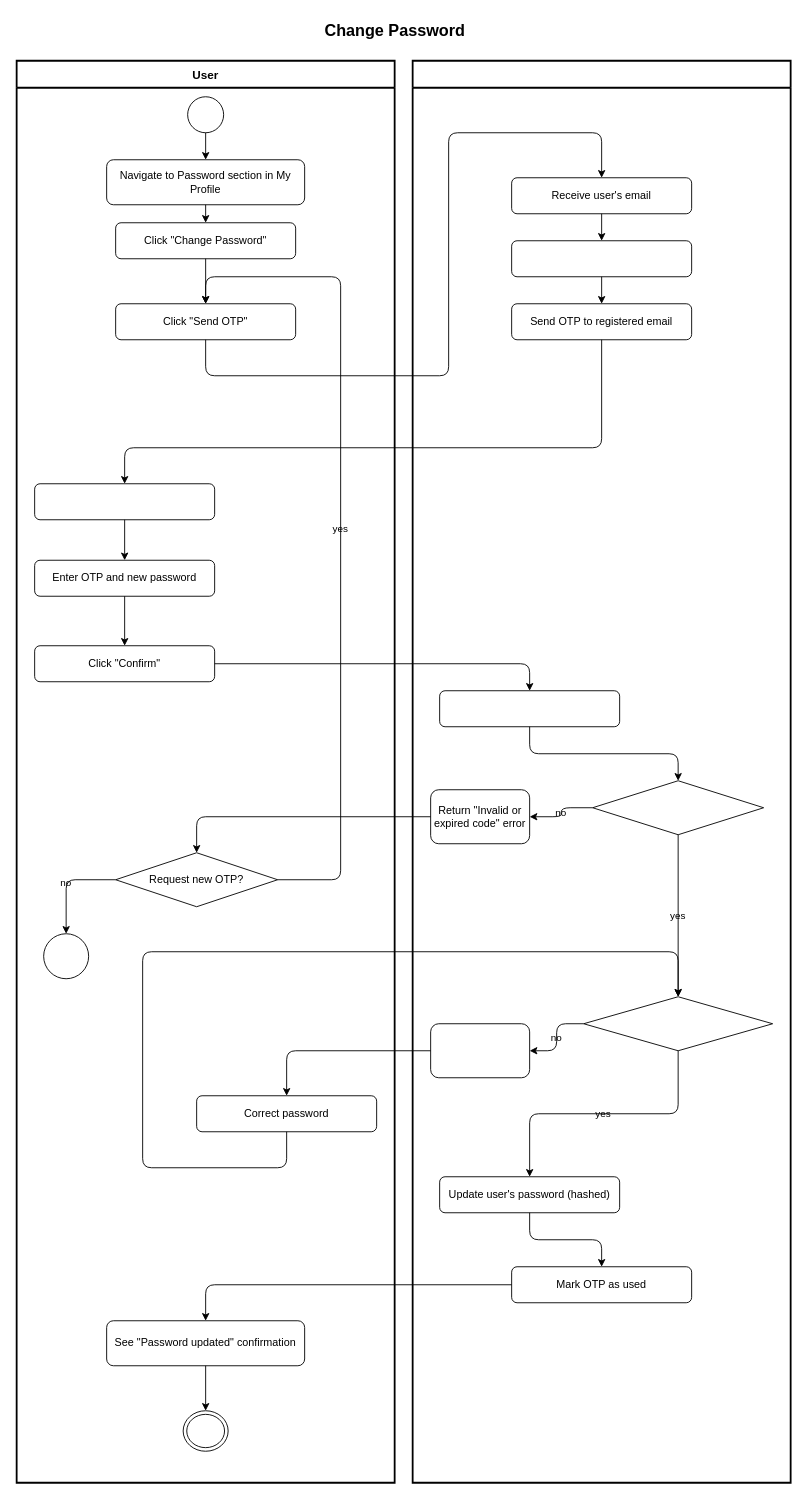
The diagram is 806 pixels wide and 1499 high, and some of its shapes have lost their labels. The shapes that lost their labels are listed below. From the top down, each one's box as (x1, y1, x2, y2) in pixels, then its label:
(511, 240, 692, 277): Generate 6-digit OTP (valid 10 min)
(34, 483, 215, 520): Receive OTP email
(439, 690, 620, 727): Look up OTP record
(411, 59, 791, 1483): System
(592, 780, 764, 835): OTP valid and not expired?
(583, 996, 773, 1051): New password meets requirements?
(430, 1023, 530, 1078): Return password strength error
